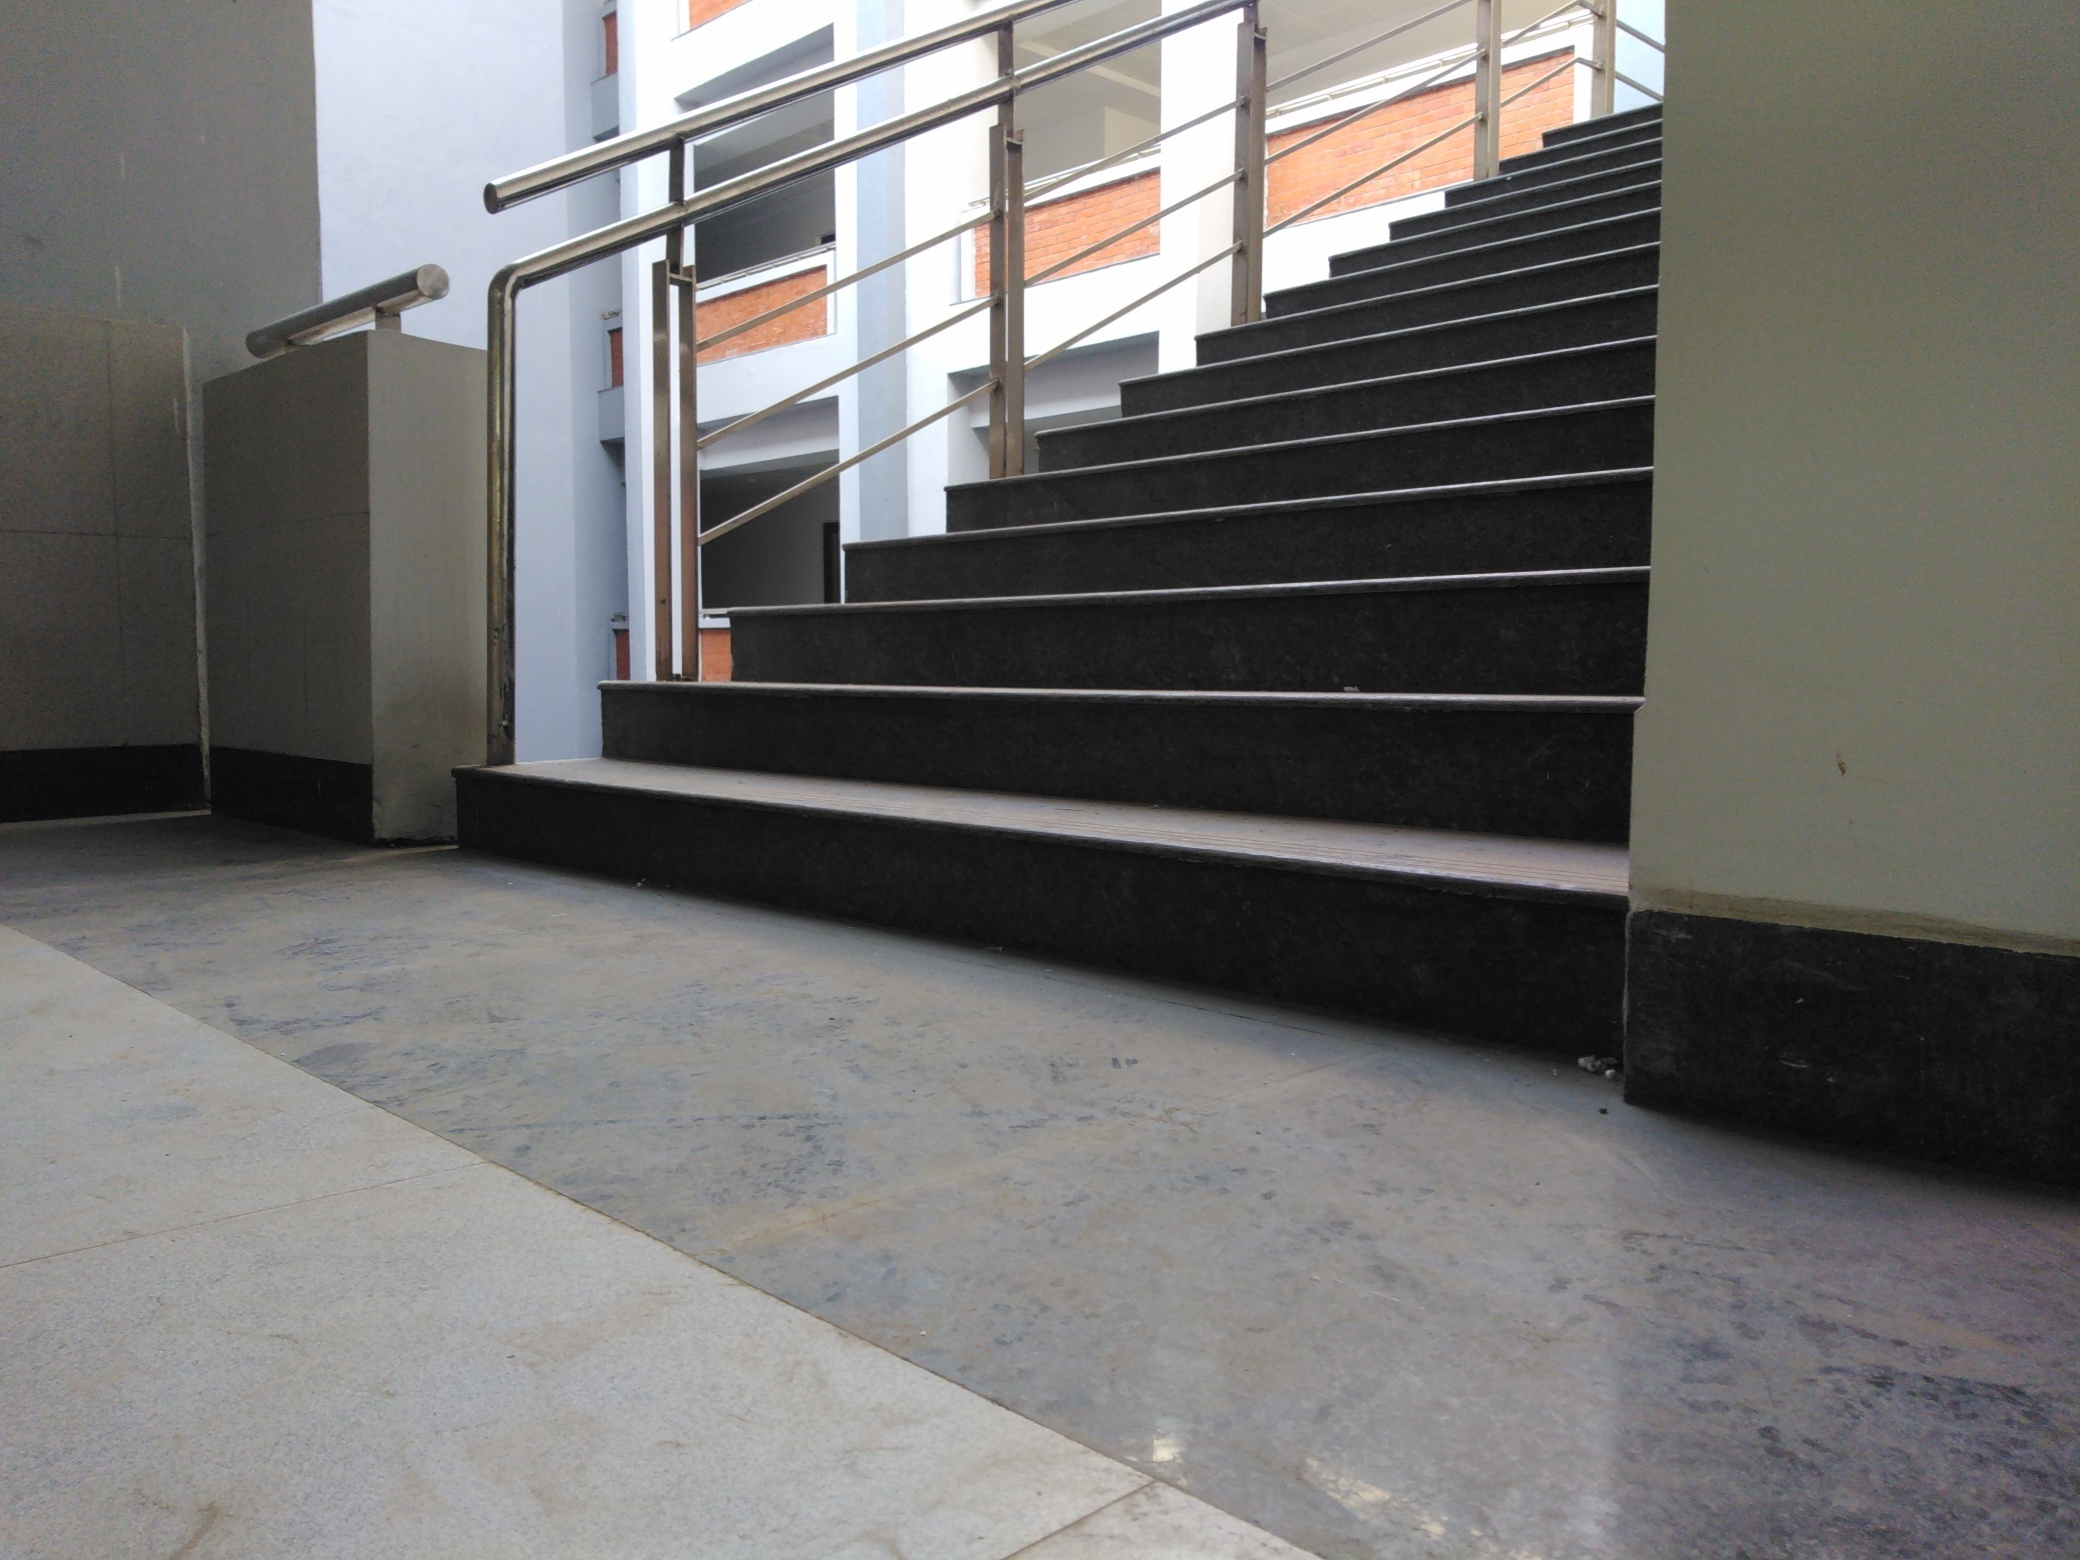stairs_up: (504, 102, 1638, 900)
